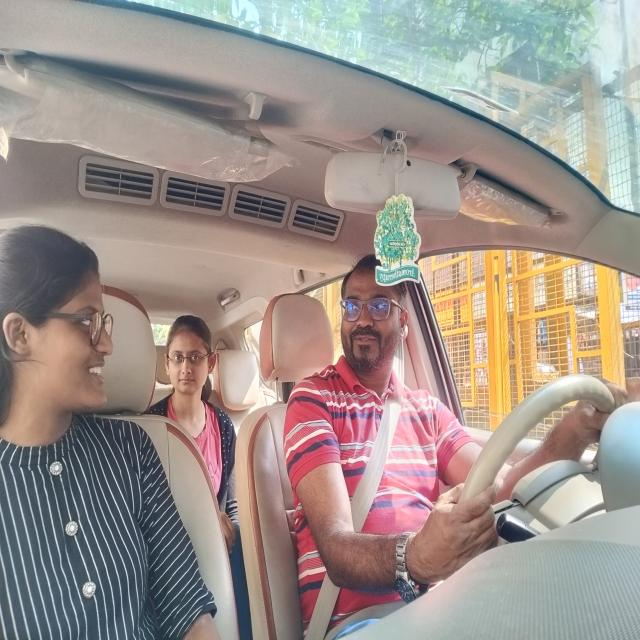LeftRight: (335, 253, 410, 374)
person: (0, 224, 129, 418), (159, 315, 217, 397)
